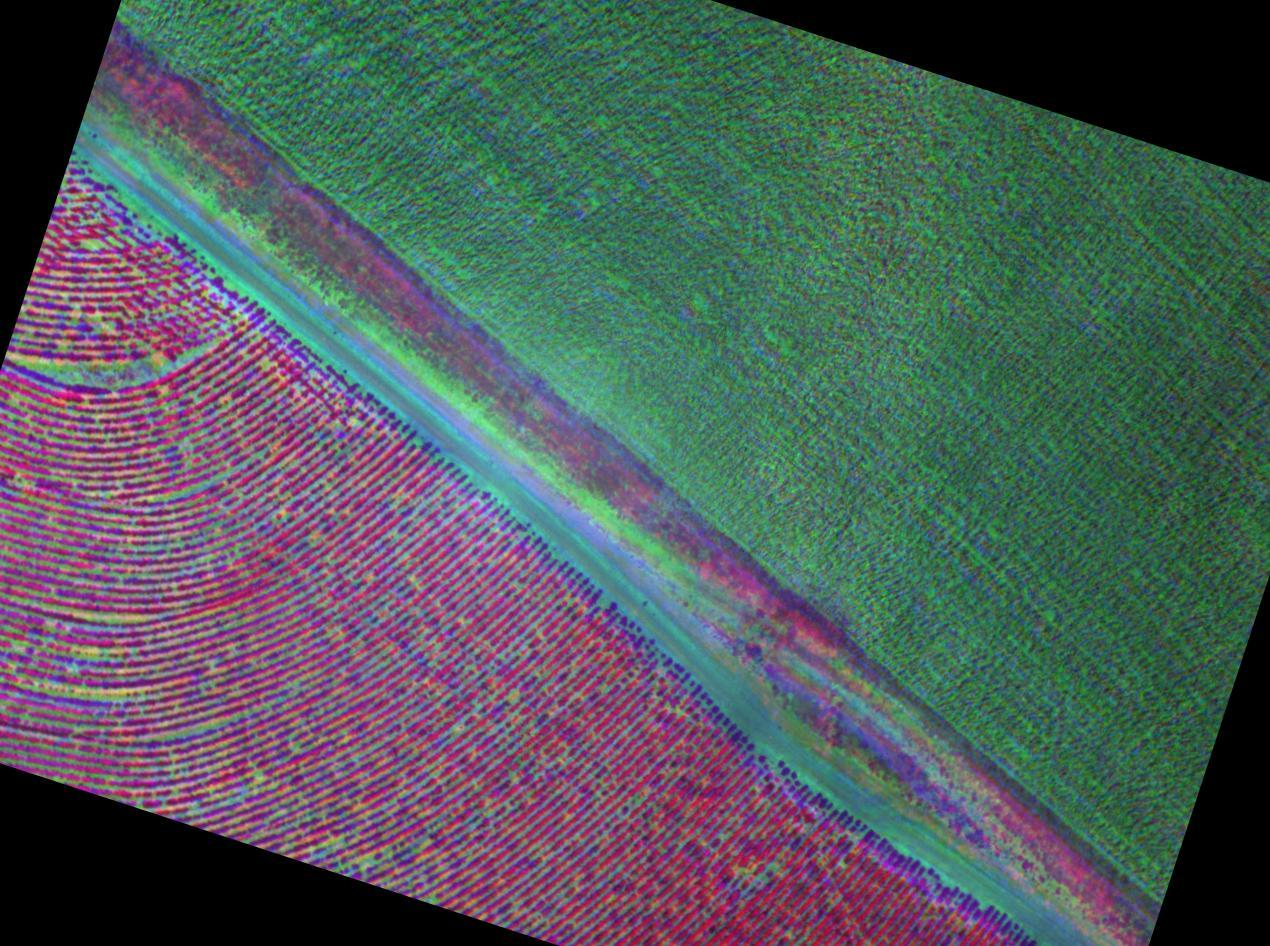dc: (28, 588, 163, 715), (8, 350, 221, 394), (201, 728, 280, 834), (318, 795, 407, 880), (146, 478, 254, 508)
